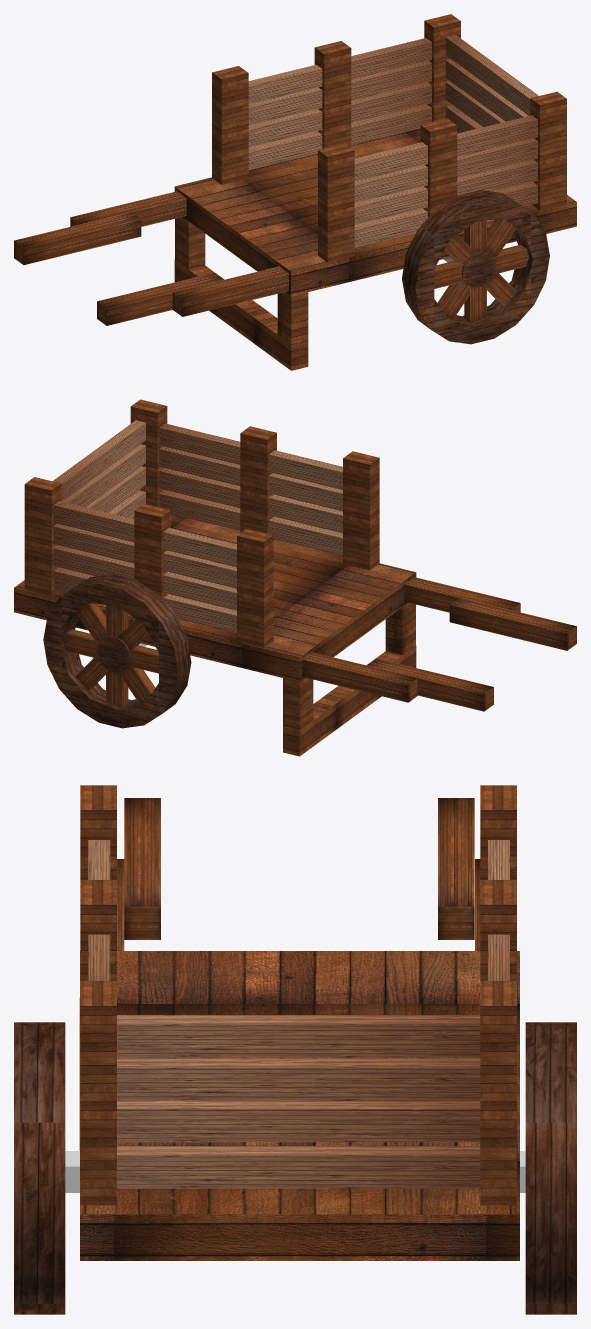
File: CarruajeProyecto.fbx
The picture shows the model from 3 angles, top to bottom: view 1: azimuth 30°, elevation 25°; view 2: azimuth 150°, elevation 25°; view 3: azimuth 270°, elevation 25°; orthographic projection. The views are drawn at different scales.
Visible parts, largest first — view 1: Box052, Cylinder005, Box053, Box056, Box066, Box062, Box065, Box055, Box064, Box076, Box063, Box059 (+24 smaller); view 2: Box052, Cylinder001, Box053, Box056, Box062, Box066, Box058, Box061, Box060, Box077, Box059, Box063 (+24 smaller); view 3: Box052, Box067, Box069, Box070, Box068, Cylinder001, Cylinder005, Box055, Box058, Box076, Box077, Box054 (+7 smaller).
Part boxes in pixels (x1,y1,x2,y2): Box052: (174, 128, 576, 296); Cylinder005: (402, 190, 549, 344); Box053: (318, 143, 354, 262); Box056: (212, 66, 248, 184); Box066: (248, 38, 431, 104); Box062: (354, 115, 537, 181); Box065: (248, 104, 431, 170); Box055: (530, 91, 566, 210); Box064: (248, 82, 431, 147); Box076: (14, 212, 141, 264); Box063: (248, 60, 431, 125); Box059: (354, 138, 537, 202); Box052: (14, 514, 416, 681); Cylinder001: (43, 574, 191, 728); Box053: (343, 451, 379, 570); Box056: (237, 529, 273, 647); Box062: (159, 423, 342, 489); Box066: (53, 501, 236, 567); Box058: (24, 477, 61, 595); Box061: (159, 490, 342, 555); Box060: (159, 467, 342, 533); Box077: (449, 597, 576, 650); Box059: (159, 446, 342, 511); Box063: (53, 523, 236, 588); Box052: (80, 951, 519, 1260); Box067: (117, 1146, 480, 1188); Box069: (117, 1058, 480, 1100); Box070: (117, 1015, 480, 1057); Box068: (117, 1101, 480, 1142); Cylinder001: (525, 1022, 576, 1314); Cylinder005: (14, 1022, 65, 1314); Box055: (80, 981, 116, 1205); Box058: (480, 981, 516, 1205); Box076: (438, 798, 474, 939); Box077: (124, 798, 160, 939); Box054: (80, 880, 116, 980).
Size of the model in its own units: 136 by 58.28 by 76.76.
